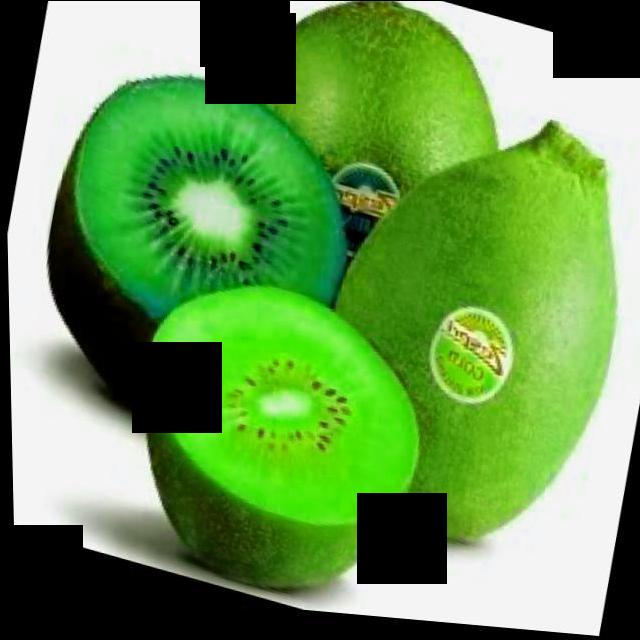kiwi: (280, 64, 640, 595), (200, 1, 548, 384)
